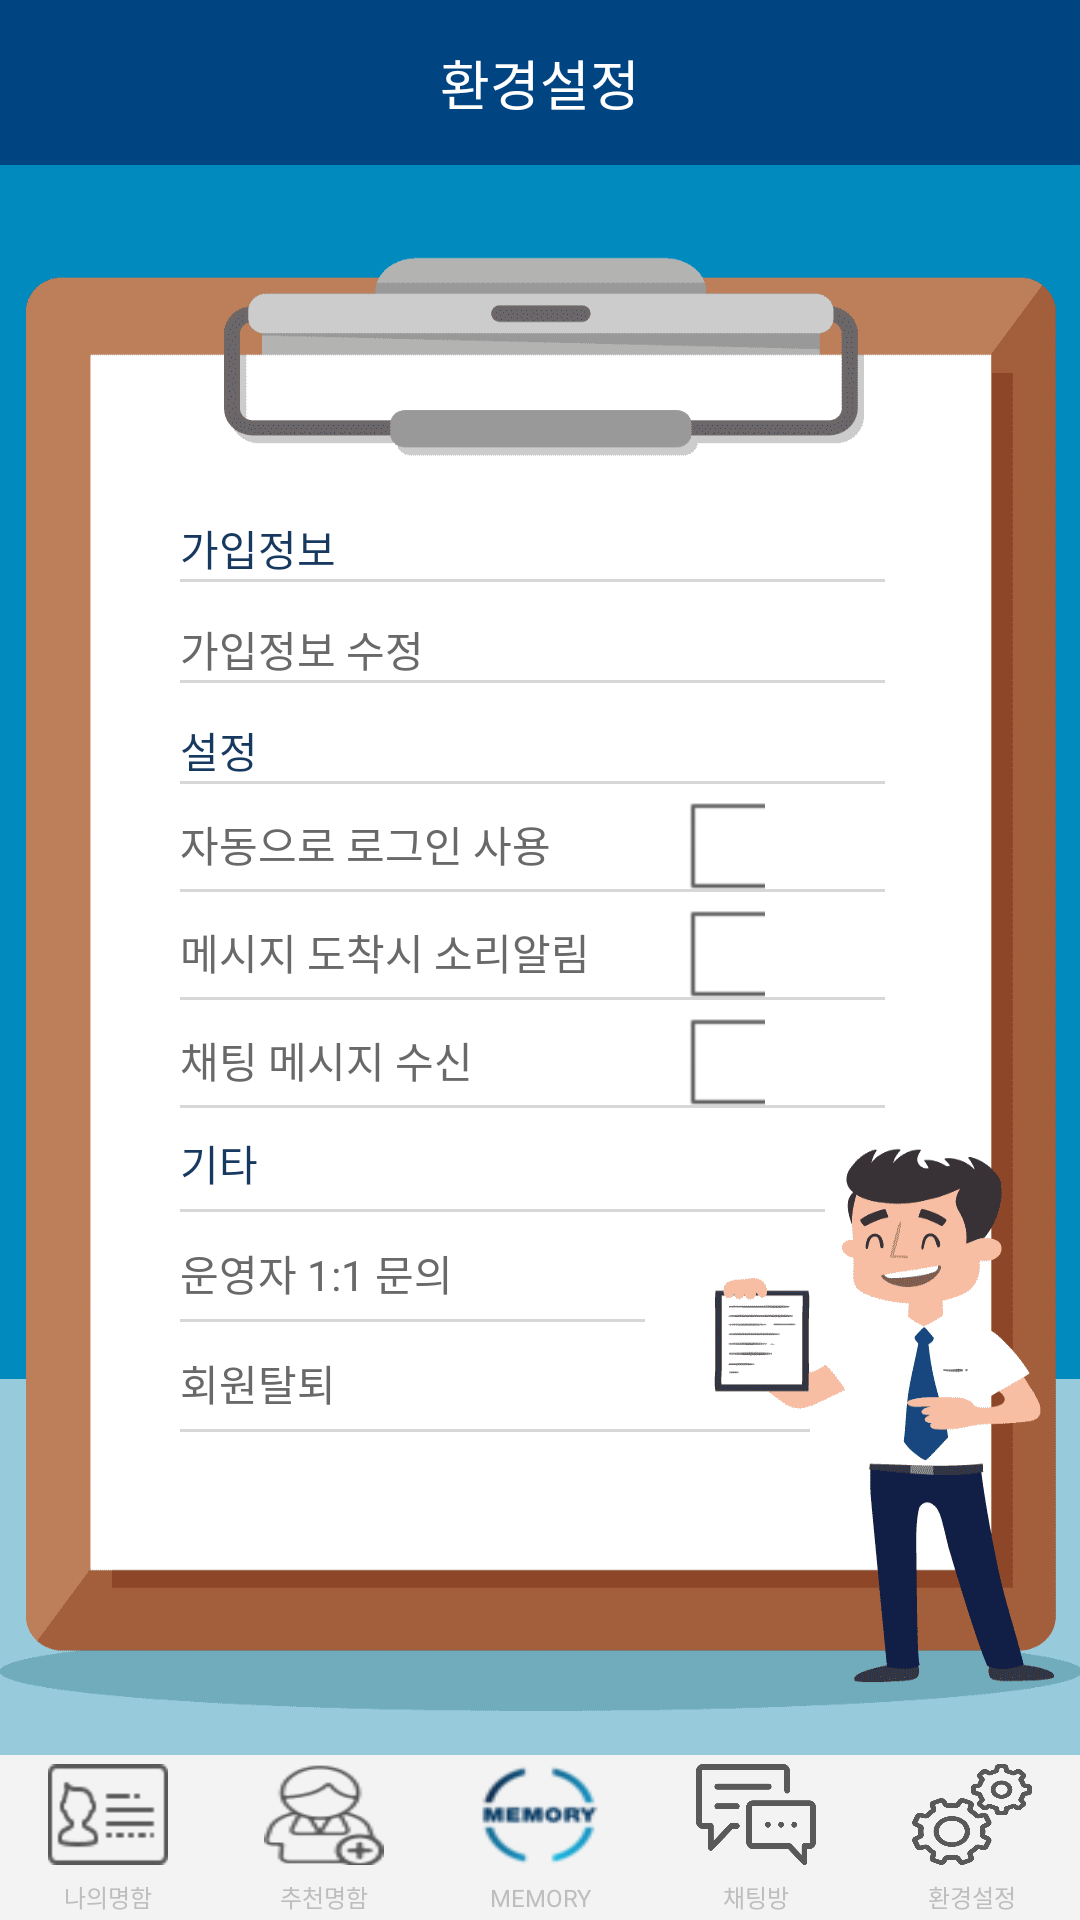

Locate icon controls on the screen. Image size 1080w x 1920h, boxes as [left=x1, top=y1, right=x2, bottom=y2].
system: [left=912, top=1764, right=1032, bottom=1865]
